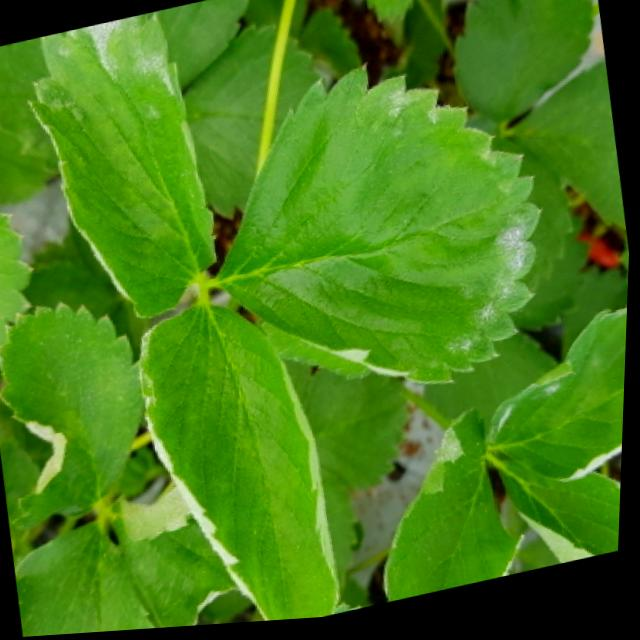Powdery Mildew Leaf: (215, 67, 547, 393), (137, 301, 347, 625), (27, 13, 219, 321), (0, 302, 147, 536), (389, 413, 523, 609), (491, 315, 630, 489), (117, 477, 245, 631), (500, 467, 625, 573)
